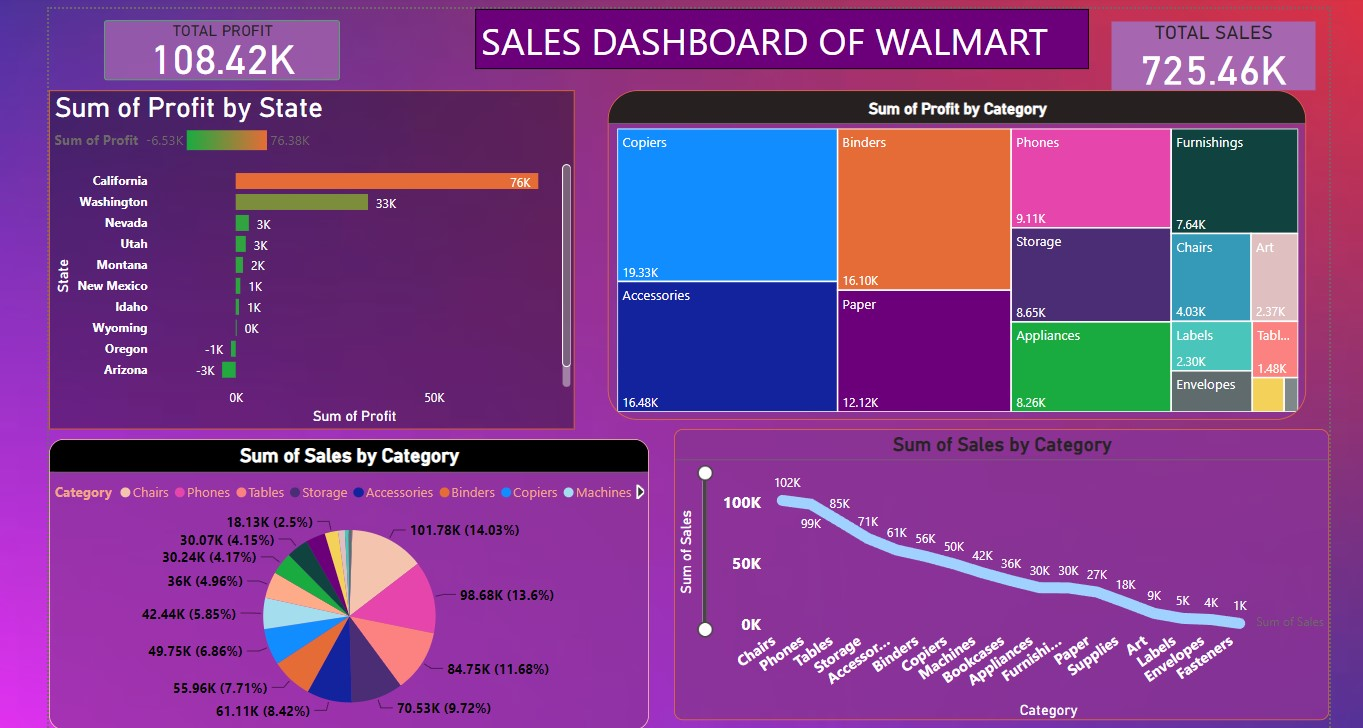

The dashboard page shown, as its layout file describes it:
{"tool":"powerbi","page":{"name":"Page 1","canvas":[1280,720],"ordinal":0},"visuals":[{"type":"barChart","fields":{"Y":["Sum(Walmart.Profit)"],"Category":["Walmart.State"]},"box":[0,81,525.6,338.9],"z":0},{"type":"textbox","box":[426.8,0,613.4,60.4],"z":1},{"type":"treemap","fields":{"Values":["Sum(Walmart.Profit)"],"Group":["Walmart.Category"]},"box":[558.5,81,698.5,329.3],"z":2},{"type":"pieChart","fields":{"Y":["Sum(Walmart.Sales)"],"Category":["Walmart.Category"]},"box":[0,429.5,599.7,290.9],"z":3},{"type":"lineChart","fields":{"Category":["Walmart.Category"],"Y":["Sum(Walmart.Sales)"]},"box":[625,420,655,291],"z":4},{"type":"card","title":"TOTAL PROFIT","fields":{"Values":["Sum(Walmart.Profit)"]},"box":[55,11,235.9,59.9],"z":5},{"type":"card","title":"TOTAL SALES","fields":{"Values":["Sum(Walmart.Sales)"]},"box":[1062.3,12.2,204.1,68.5],"z":6}]}

Visuals, with their boxes on the page's 1280x720 design canvas (x1, y1, x2, y2). These are canvas units, not pixel positions in the 1363x728 screenshot, which may show the page scaled, cropped or inside an application window:
barChart - Sum(Walmart.Profit) x Walmart.State: 0, 81, 526, 420
textbox: 427, 0, 1040, 60
treemap - Sum(Walmart.Profit) x Walmart.Category: 558, 81, 1257, 410
pieChart - Sum(Walmart.Sales) x Walmart.Category: 0, 430, 600, 720
lineChart - Walmart.Category x Sum(Walmart.Sales): 625, 420, 1280, 711
"TOTAL PROFIT" card: 55, 11, 291, 71
"TOTAL SALES" card: 1062, 12, 1266, 81
